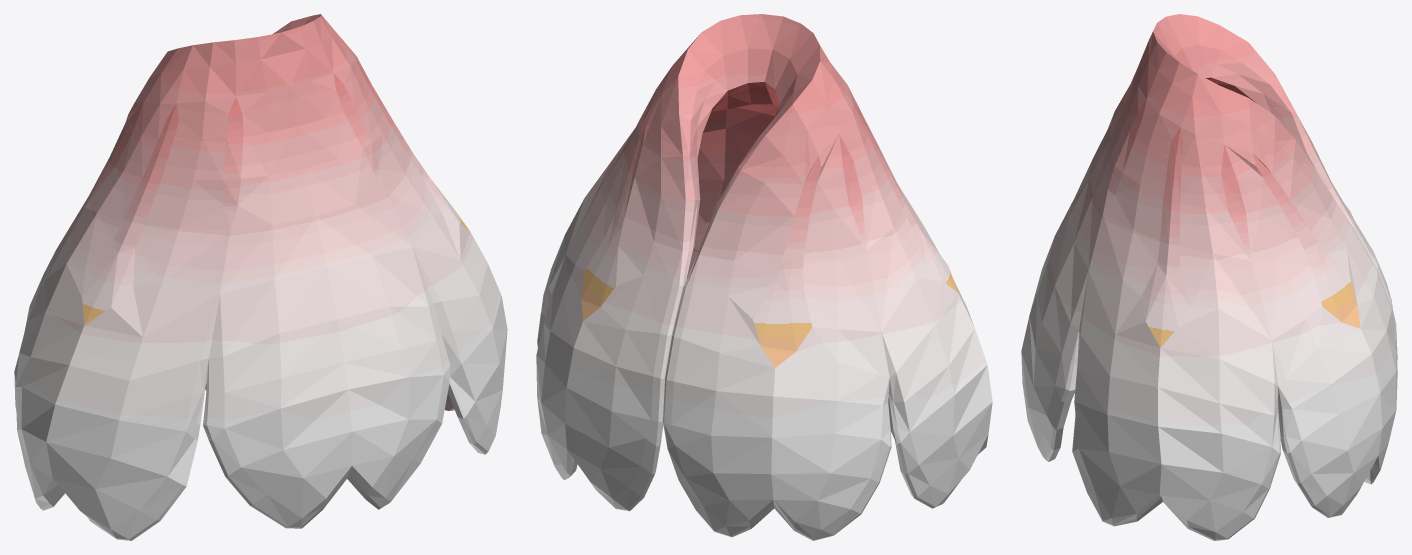
The model's file is CharSkyKid_Wing_Blossom_01.glb.
3 renders of one model, left to right at view 1: azimuth 30°, elevation 25°; view 2: azimuth 150°, elevation 25°; view 3: azimuth 270°, elevation 25°, orthographic. The views are drawn at different scales.
Visible parts, largest first — view 1: CharSkyKid_Wing_Blossom_01; view 2: CharSkyKid_Wing_Blossom_01; view 3: CharSkyKid_Wing_Blossom_01.
Boxes of the visible parts, left/top/right/bottom form: CharSkyKid_Wing_Blossom_01: left=14, top=14, right=507, bottom=540; CharSkyKid_Wing_Blossom_01: left=536, top=14, right=992, bottom=540; CharSkyKid_Wing_Blossom_01: left=1021, top=14, right=1397, bottom=540.
Bounding box in the file's own units: 7.21 × 6.87 × 5.52.
Materials: 1 (1 with a texture image).
